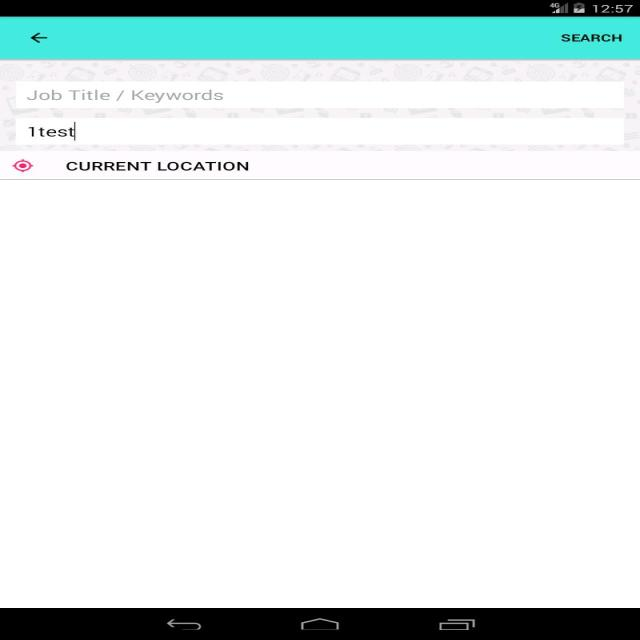button: (0, 150, 639, 178), (552, 28, 632, 50), (20, 28, 59, 52)
field: (16, 80, 623, 108), (16, 119, 623, 146)
image: (0, 61, 640, 150)
label: (20, 84, 228, 105)
text: (56, 157, 257, 176), (24, 122, 78, 142)
